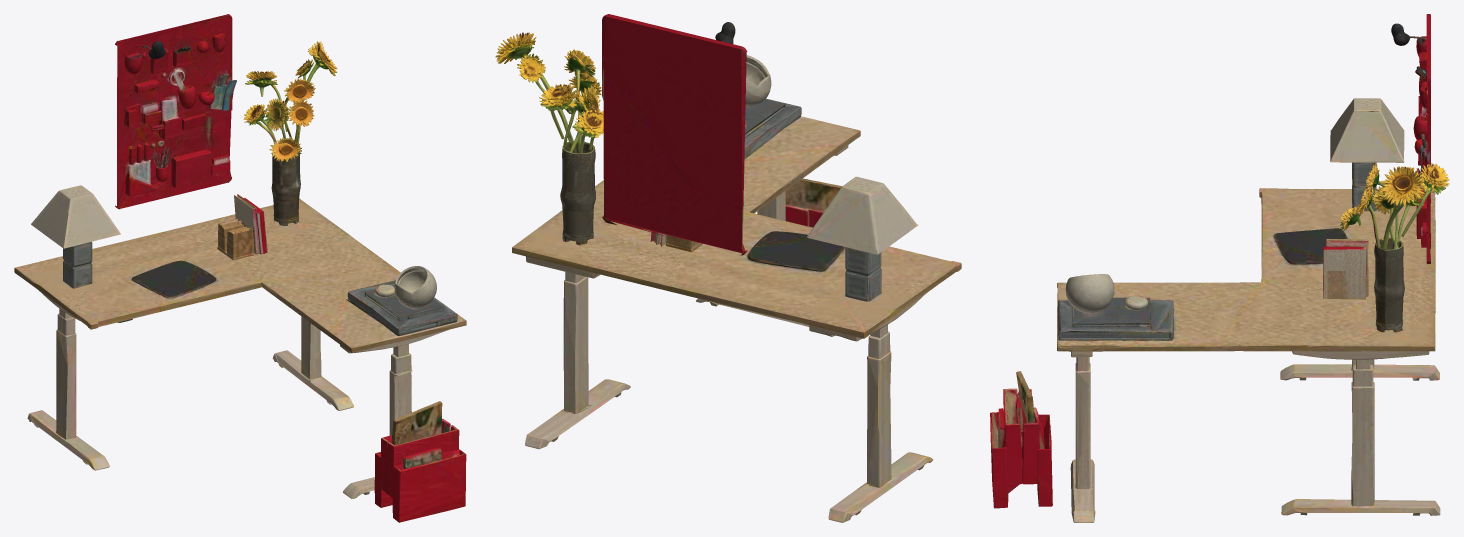
File: branchfurniture-com-products-l-standing-desk-9b648c.glb
The picture shows the model from 3 angles, left to right: view 1: azimuth 30°, elevation 25°; view 2: azimuth 150°, elevation 25°; view 3: azimuth 270°, elevation 25°; orthographic projection. The views are drawn at different scales.
Visible parts, largest first — view 1: Mesh_0; view 2: Mesh_0; view 3: Mesh_0.
Boxes of the visible parts, x1=… form: Mesh_0: x1=14, y1=14, x2=466, y2=522; Mesh_0: x1=495, y1=14, x2=961, y2=522; Mesh_0: x1=990, y1=14, x2=1449, y2=522.
Size of the model in its own units: 1.67 by 1.89 by 1.9.
Materials: 1 (1 with a texture image).
